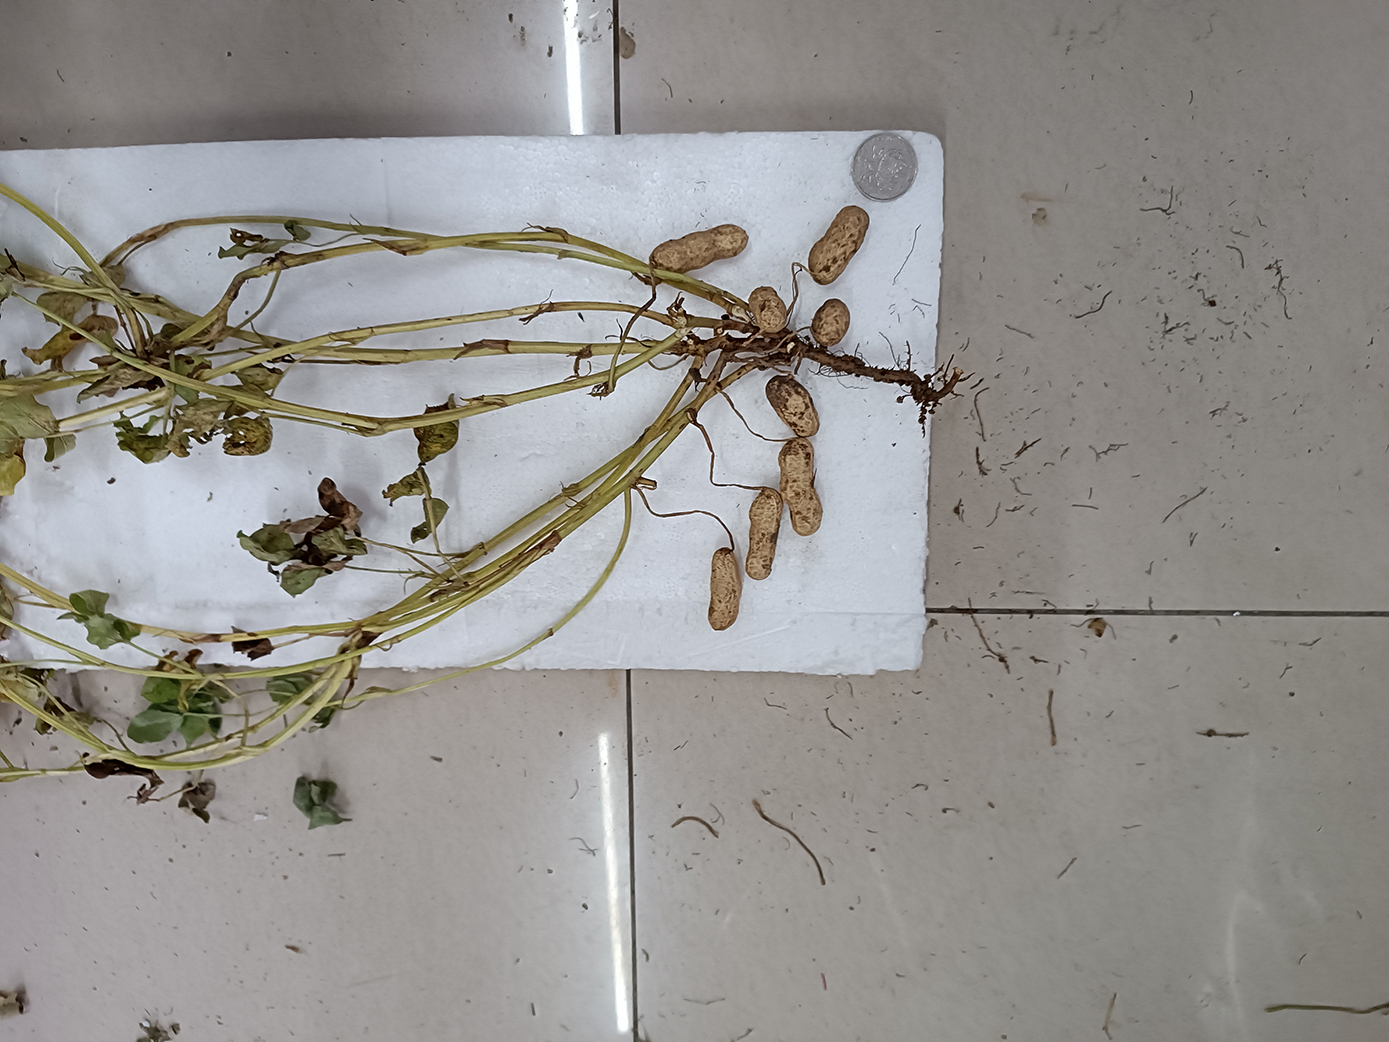h: (810, 206, 869, 288), (650, 225, 748, 273), (780, 438, 823, 535), (743, 487, 783, 580), (766, 377, 820, 437), (707, 548, 742, 630), (748, 286, 788, 331), (813, 299, 849, 347)
